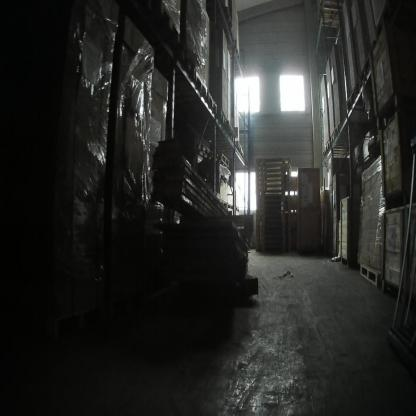pallet: (151, 0, 180, 45), (176, 46, 196, 81), (201, 144, 229, 167), (198, 149, 229, 169), (360, 263, 382, 286), (320, 6, 339, 29), (330, 132, 358, 147), (194, 71, 207, 102), (325, 140, 350, 156), (322, 148, 349, 159), (207, 92, 218, 114), (355, 71, 364, 96), (346, 87, 355, 110), (218, 112, 227, 129), (334, 120, 343, 136), (226, 122, 234, 138), (235, 142, 242, 154), (231, 133, 236, 145), (221, 201, 227, 208), (228, 204, 233, 210), (241, 148, 244, 158), (236, 207, 239, 212)
